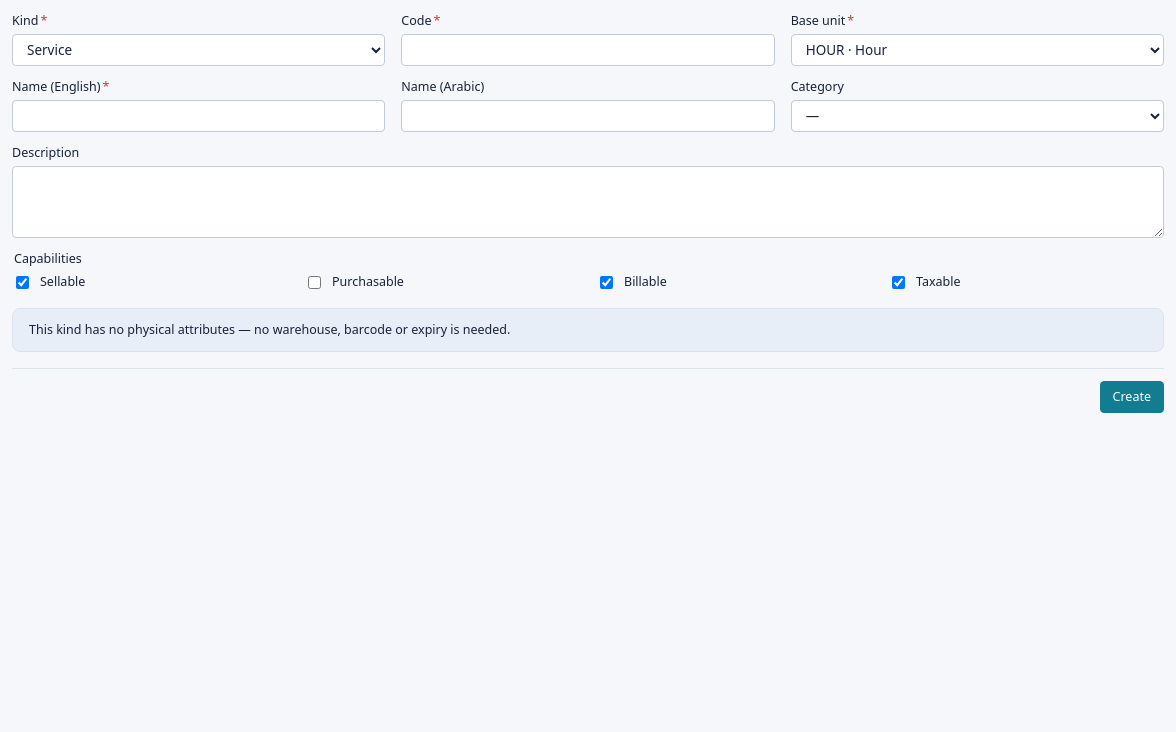
Test: ItemForm (ADR-005, MI-001, F-UX-004) › switching to a stocked good reveals the physical section when inventory is enabled
Select "Stocked good" in the dropdown labelled "Kind*" at coordinates (199, 50), box [12, 34, 385, 66]
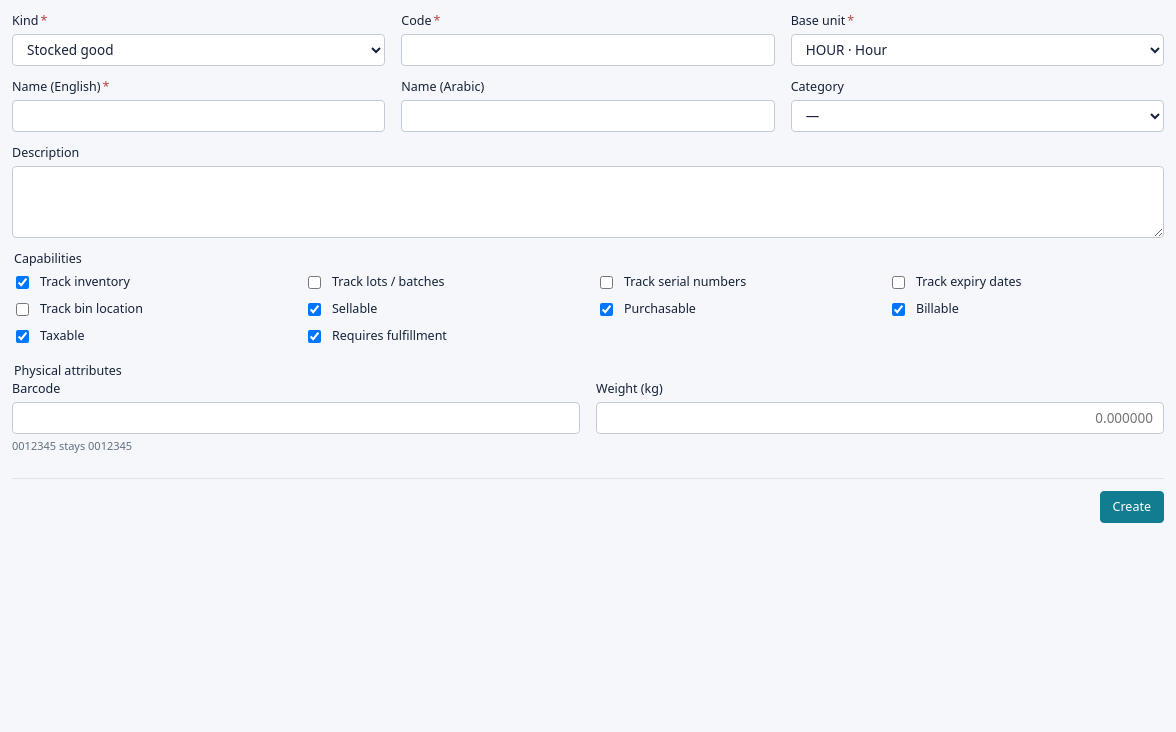
Now the element with test id "physical" is shown, box [12, 362, 1164, 466]
Now the field labelled "Barcode" is shown, box [12, 402, 580, 434]
